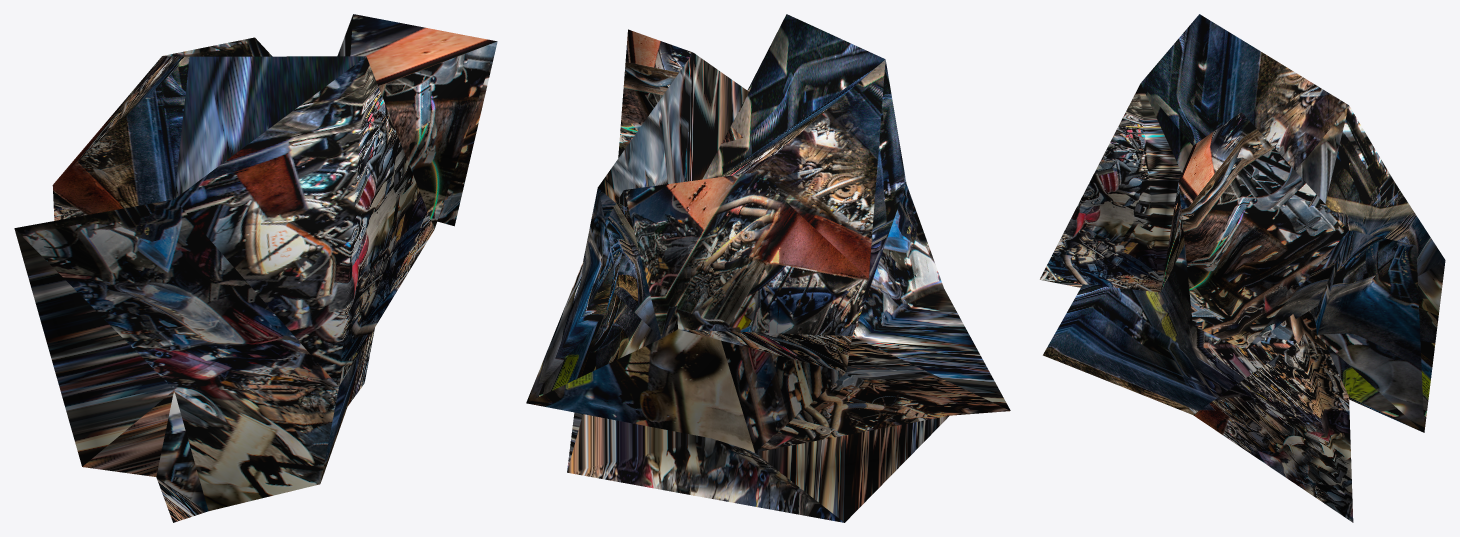
File: junk1.fbx
3 views of the same model, side by side, from view 1: azimuth 30°, elevation 25°; view 2: azimuth 150°, elevation 25°; view 3: azimuth 270°, elevation 25° (orthographic). The views are drawn at different scales.
Parts seen in each view (by area): view 1: Icosphere; view 2: Icosphere; view 3: Icosphere.
Boxes of the visible parts, x1,y1,x2,y2 form: Icosphere: (14, 14, 497, 522); Icosphere: (526, 14, 1010, 522); Icosphere: (1039, 14, 1445, 522).
Bounding box in the file's own units: 2.42 × 2.71 × 2.33.
Materials: 1 (1 with a texture image).
